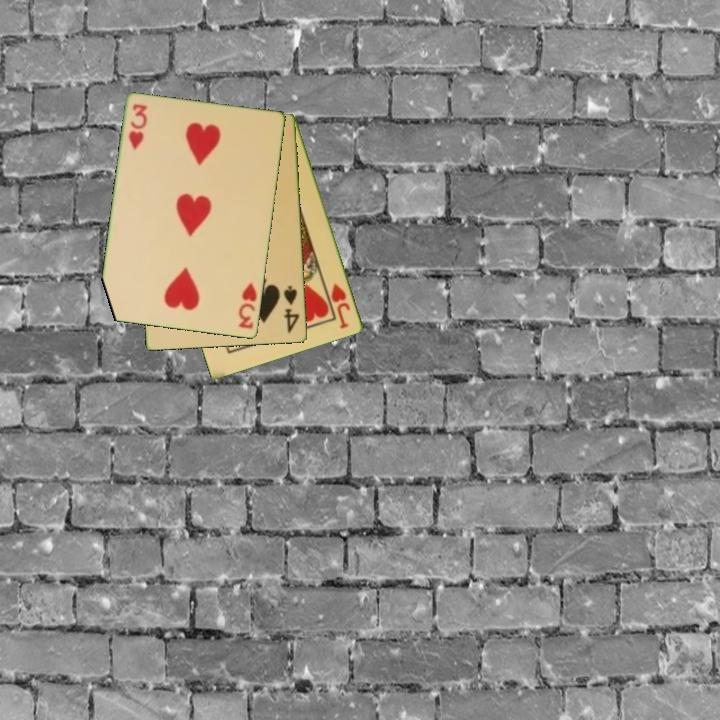3h: (235, 279, 260, 332), (125, 101, 150, 153)
4s: (280, 283, 303, 336)
Jh: (328, 280, 353, 332)
